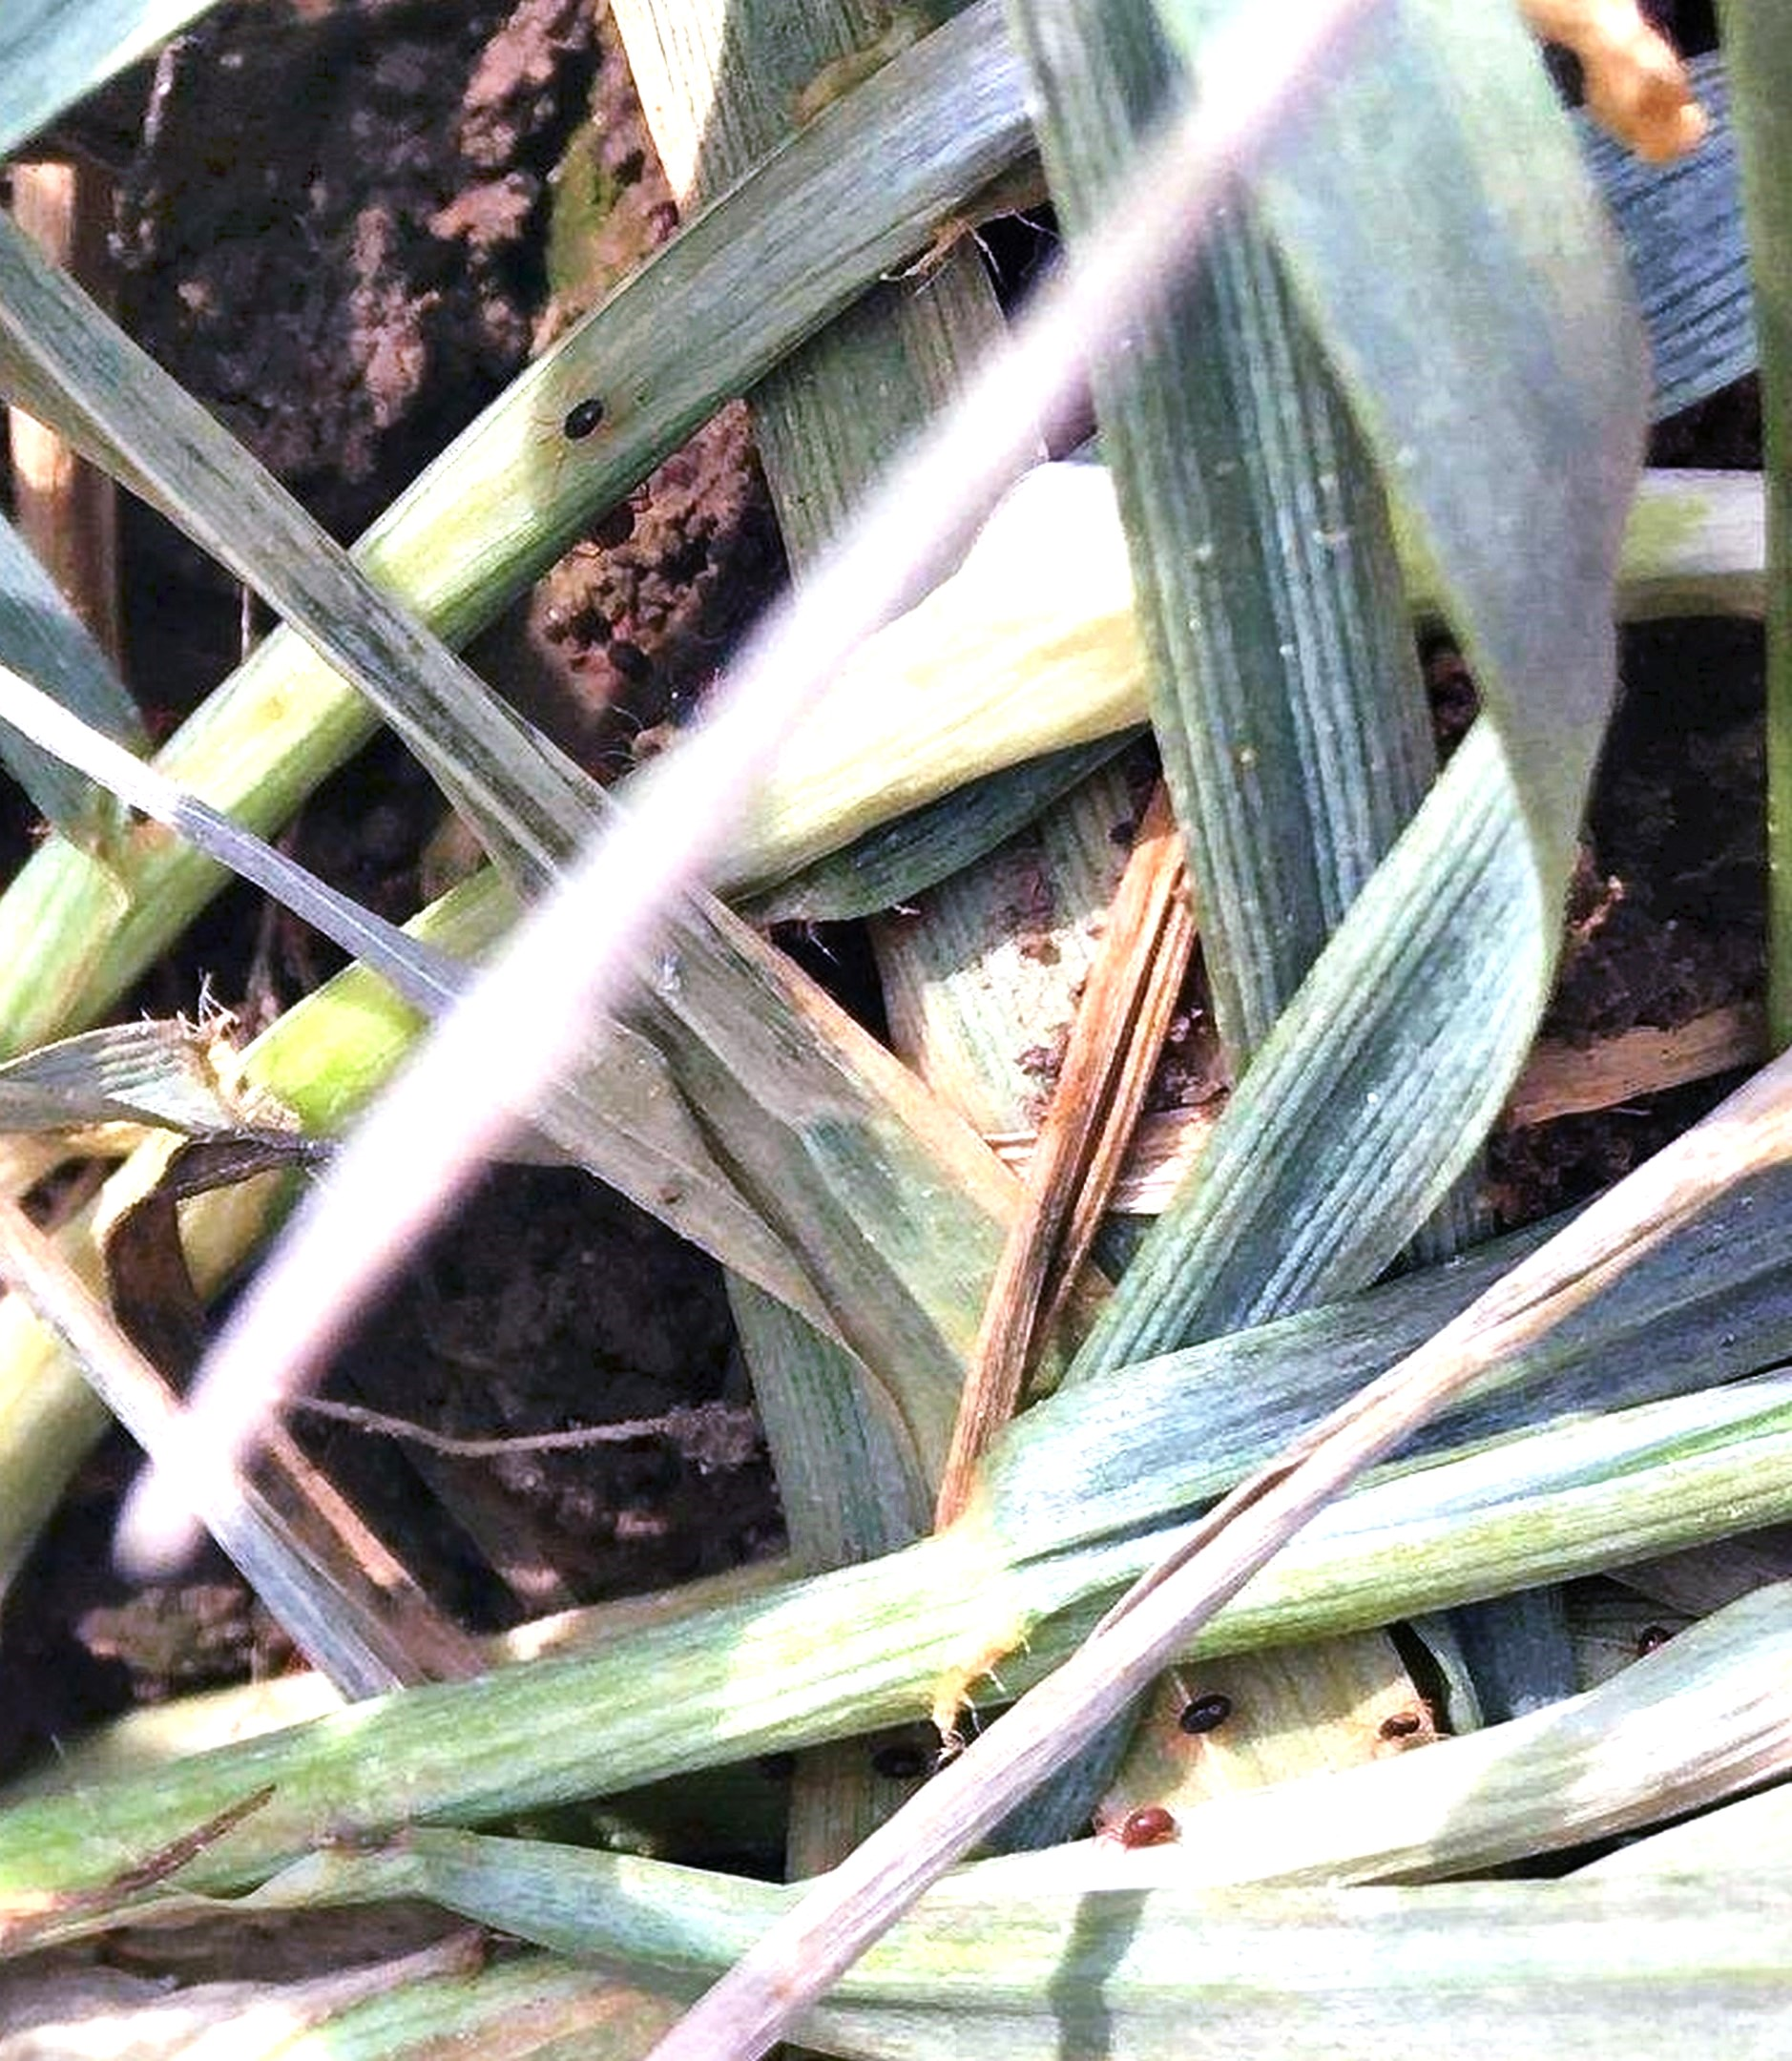Wheat Red Spider: (500, 356, 658, 499)
